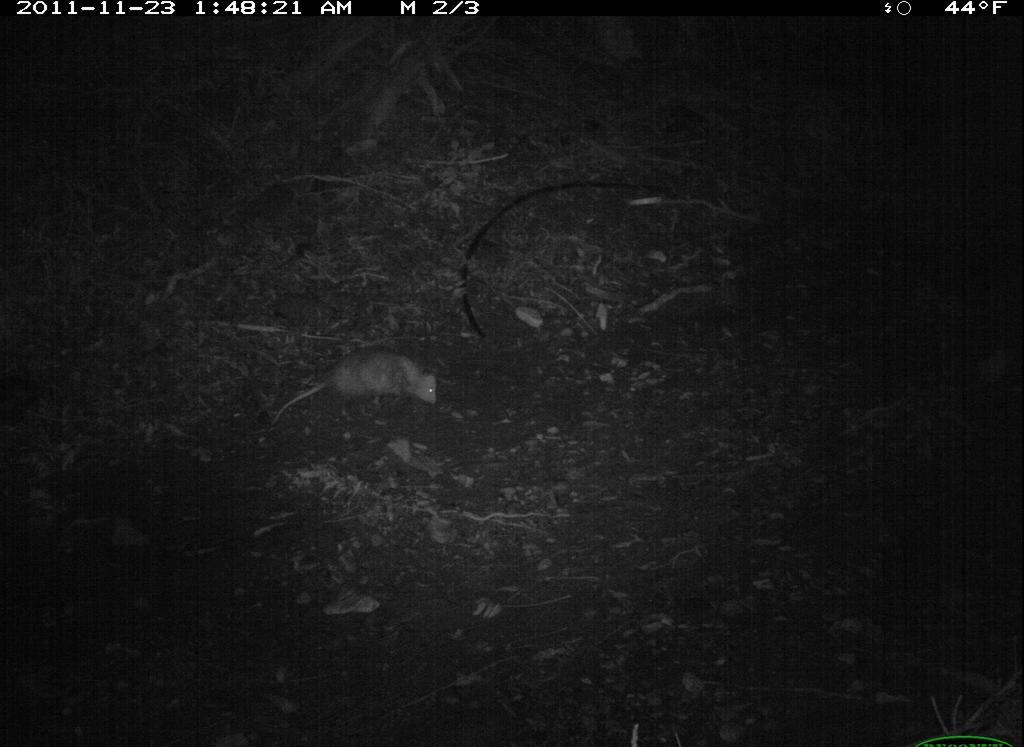opossum: (268, 338, 451, 433)
